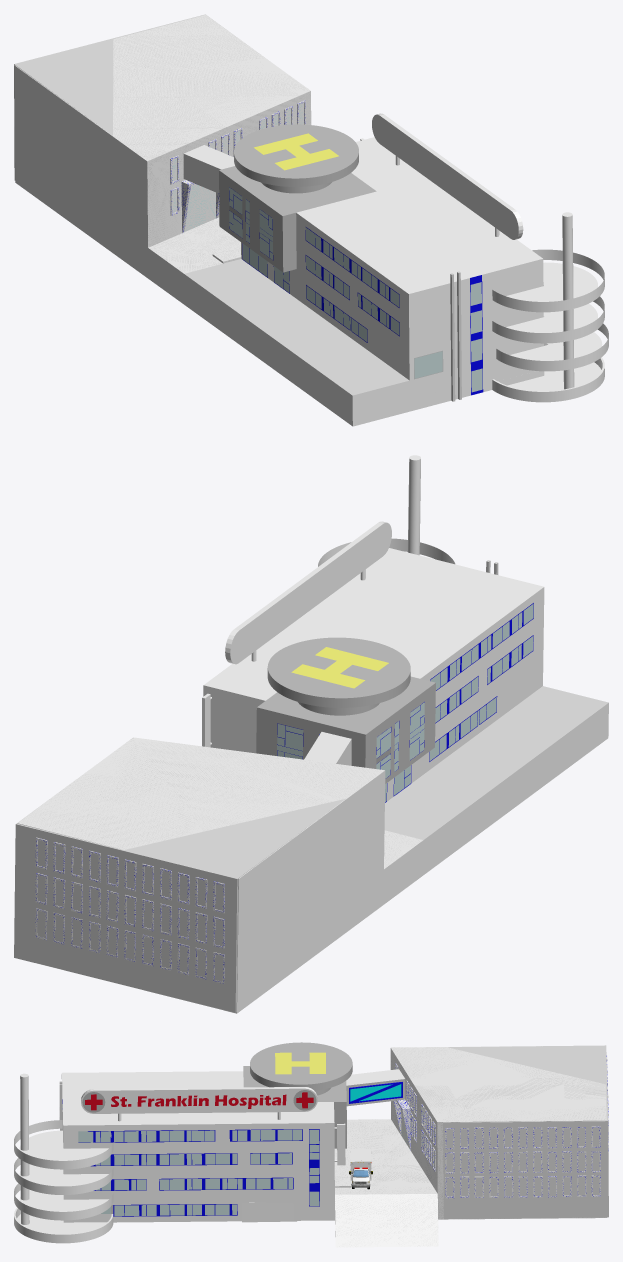
Rendered from hospital.fbx.
3 renders of one model, top to bottom at view 1: azimuth 30°, elevation 25°; view 2: azimuth 150°, elevation 25°; view 3: azimuth 270°, elevation 25°, orthographic. The views are drawn at different scales.
Parts seen in each view (by area): view 1: hospital, Cube; view 2: hospital, Cube; view 3: hospital, Cube.
Boxes of the visible parts, left/top/right/bottom form: hospital: left=14, top=15, right=608, bottom=426; Cube: left=14, top=14, right=252, bottom=180; hospital: left=17, top=455, right=608, bottom=1013; Cube: left=14, top=784, right=345, bottom=1012; hospital: left=14, top=1042, right=608, bottom=1247; Cube: left=443, top=1045, right=608, bottom=1219.
Size of the model in its own units: 2953 by 1926 by 6958.
